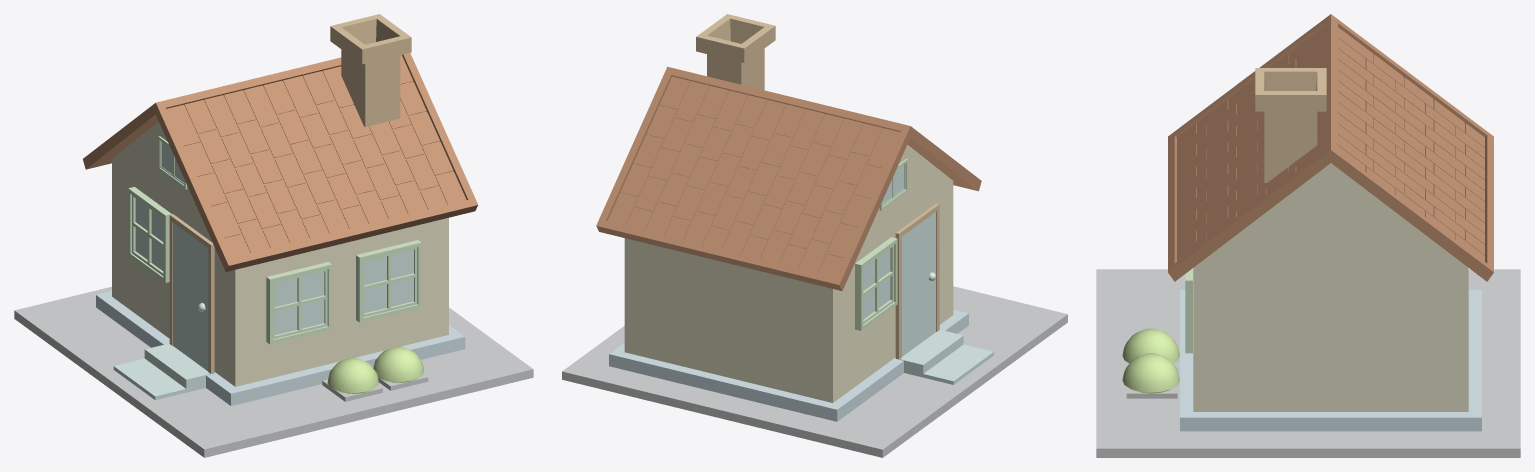
File: home.glb
3 views of the same model, side by side, from view 1: azimuth 30°, elevation 25°; view 2: azimuth 150°, elevation 25°; view 3: azimuth 270°, elevation 25° (orthographic). The views are drawn at different scales.
Parts seen in each view (by area): view 1: Box002, Box001, 对象001, 对象004, 对象006, 对象005, Box016, 对象003, Box004, 对象007, 对象008, 对象017 (×2) (+9 smaller); view 2: Box002, Box001, 对象001, Box004, 对象006, 对象008, 对象005, 对象007, 对象004, 对象003, Box016, Box005 (+5 smaller); view 3: Box002, Box001, 对象001, Box004, Box016, 对象003 (×2), 对象007 (×2), 对象004 (×2), 对象006 (×2), 对象005 (×2), 对象008 (×2), Sphere002 (+2 smaller).
Part boxes in pixels (x1,y1,x2,y2): Box002: (112, 122, 448, 386); Box001: (14, 286, 533, 457); 对象001: (83, 53, 477, 271); 对象004: (204, 90, 308, 247); 对象006: (283, 71, 387, 228); 对象005: (243, 80, 348, 238); Box016: (330, 14, 411, 126); 对象003: (166, 100, 269, 256); Box004: (96, 291, 465, 405); 对象007: (322, 66, 427, 218); 对象008: (389, 55, 466, 209); 对象017 (×2): (274, 249, 413, 334); Box002: (624, 144, 953, 402); Box001: (562, 286, 1067, 457); 对象001: (596, 66, 981, 290); Box004: (609, 309, 968, 421); 对象006: (684, 95, 786, 248); 对象008: (607, 76, 709, 229); 对象005: (723, 104, 824, 258); 对象007: (646, 86, 747, 239); 对象004: (761, 114, 863, 267); 对象003: (800, 123, 900, 276); Box016: (696, 14, 775, 90); Box005: (902, 212, 935, 356); Box002: (1193, 163, 1468, 411); Box001: (1096, 269, 1520, 457); 对象001: (1168, 14, 1493, 281); Box004: (1180, 290, 1481, 431); Box016: (1255, 68, 1326, 182); 对象003 (×2): (1177, 27, 1484, 158); 对象007 (×2): (1177, 113, 1484, 244); 对象004 (×2): (1177, 49, 1484, 179); 对象006 (×2): (1177, 92, 1484, 222); 对象005 (×2): (1177, 70, 1484, 201); 对象008 (×2): (1177, 135, 1484, 261); Sphere002: (1122, 353, 1179, 393).
Bounding box in the file's own units: 0.175 × 0.1528 × 0.175.
